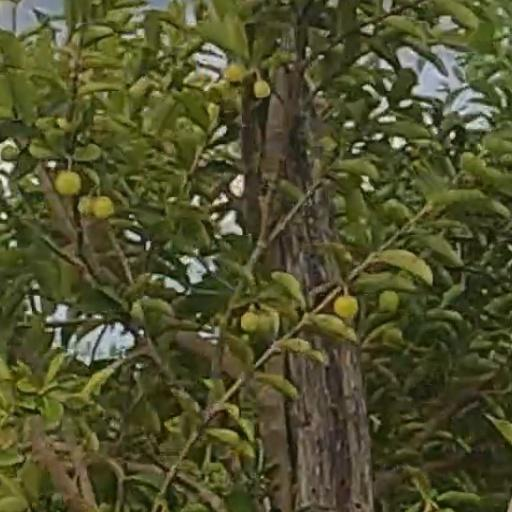acerola: (54, 171, 82, 197), (334, 296, 359, 317)
